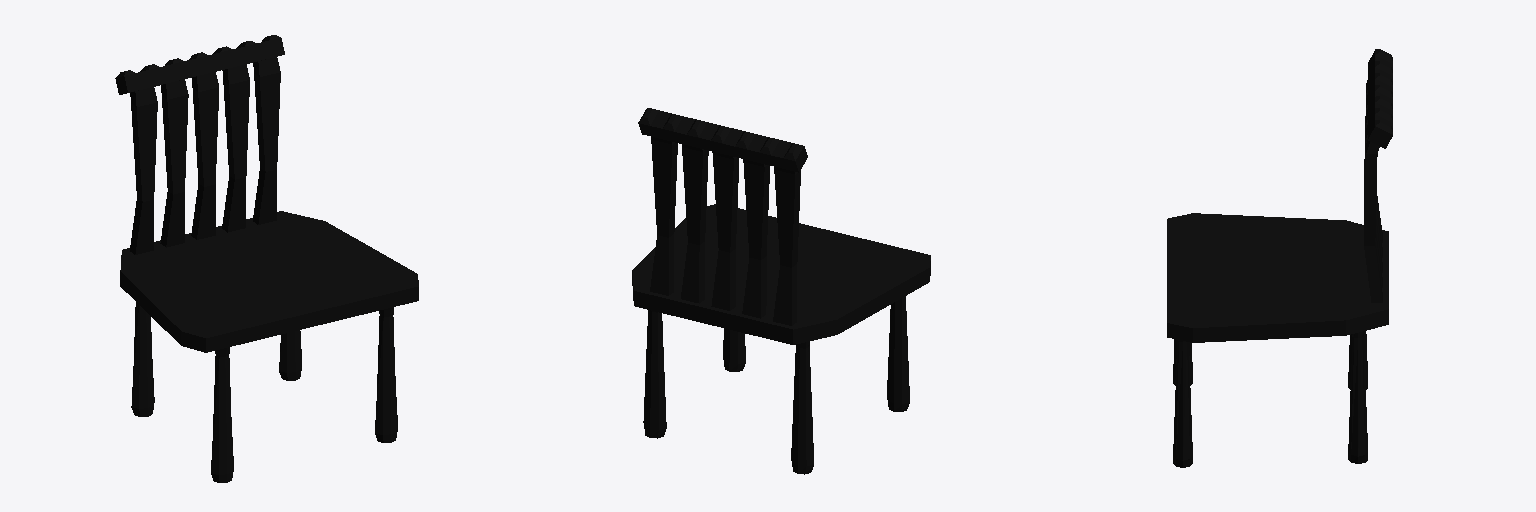
File: Chair_Mesh_REexported_File.obj
3 views of the same model, side by side, from view 1: azimuth 30°, elevation 25°; view 2: azimuth 150°, elevation 25°; view 3: azimuth 270°, elevation 25° (orthographic).
Parts seen in each view (by area): view 1: ChairseatShape; view 2: ChairseatShape; view 3: ChairseatShape.
Boxes of the visible parts, x1=… form: ChairseatShape: x1=115, y1=35, x2=418, y2=482; ChairseatShape: x1=632, y1=108, x2=930, y2=474; ChairseatShape: x1=1167, y1=49, x2=1392, y2=467.
Size of the model in its own units: 175 by 238 by 146.